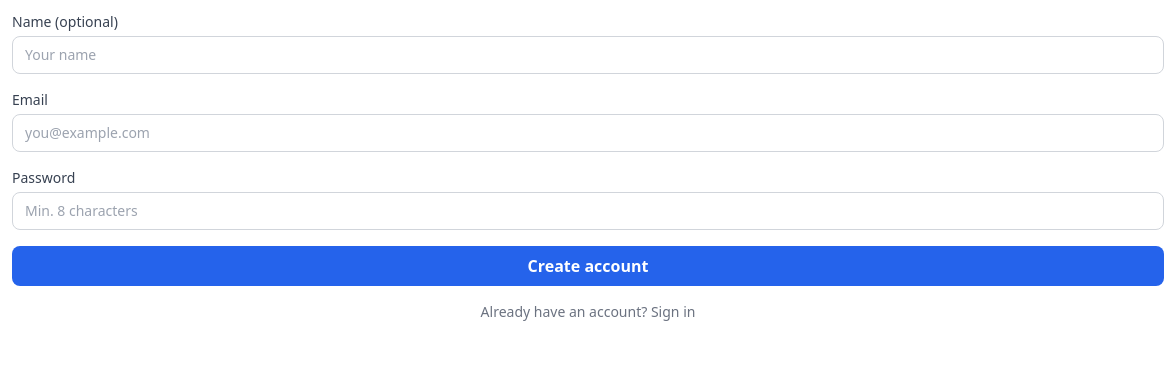
it: AuthForm › signup mode › shows error when signIn fails after signup
Type "test@test.com" into the field with placeholder "you@example.com".
click(588, 133); type("test@test.com")  # box [12,114,1164,152]
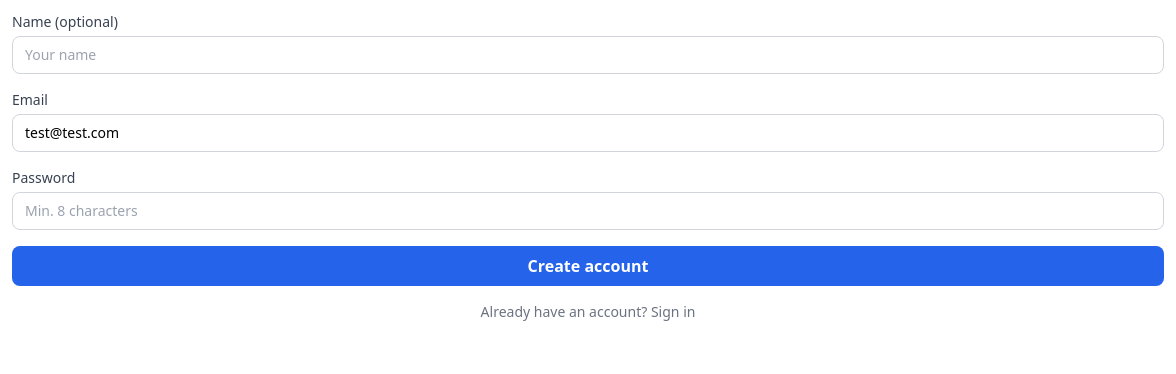
Type "password123" into the password field with placeholder "Min. 8 characters".
click(588, 211); type("password123")  # box [12,192,1164,230]
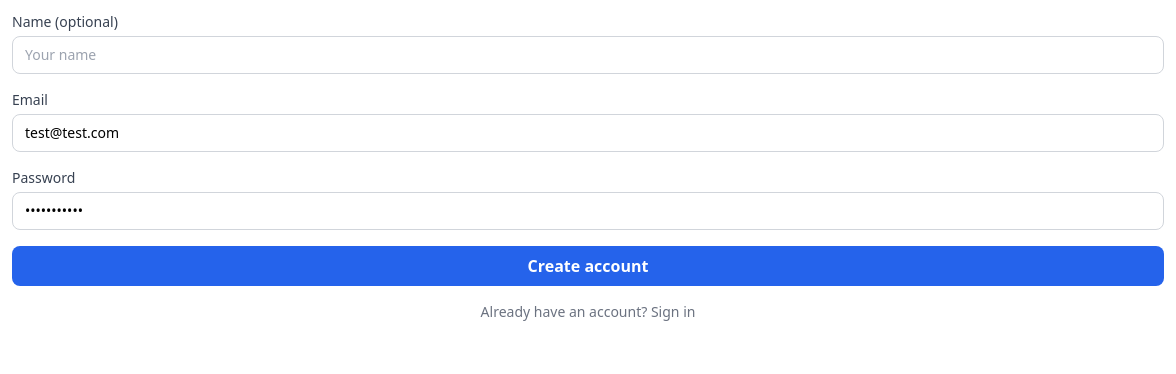
Submit the form from the button "Create account", box [12,246,1164,286]
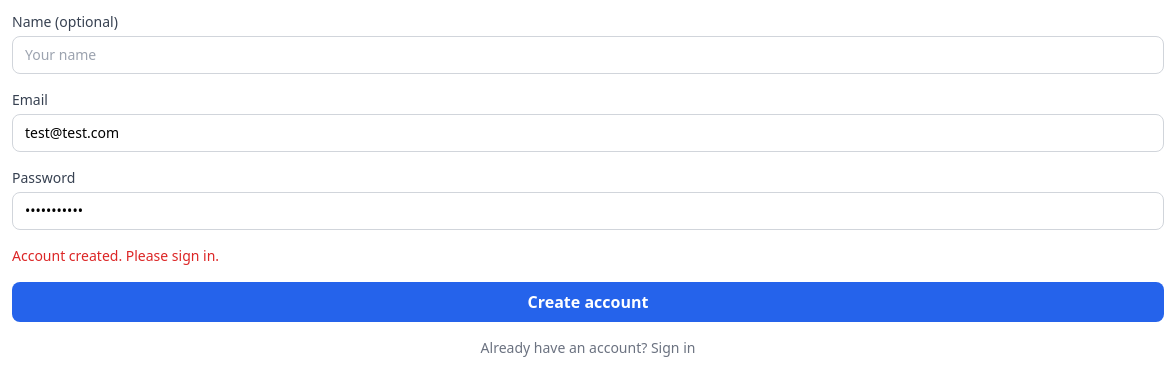
Expected: the text "Account created. Please sign in." is shown, [12,246,219,265]
